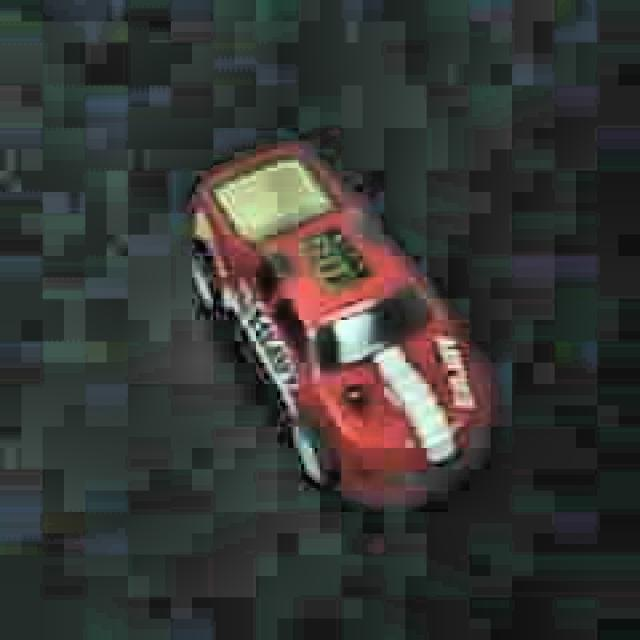car: (175, 135, 500, 514)
